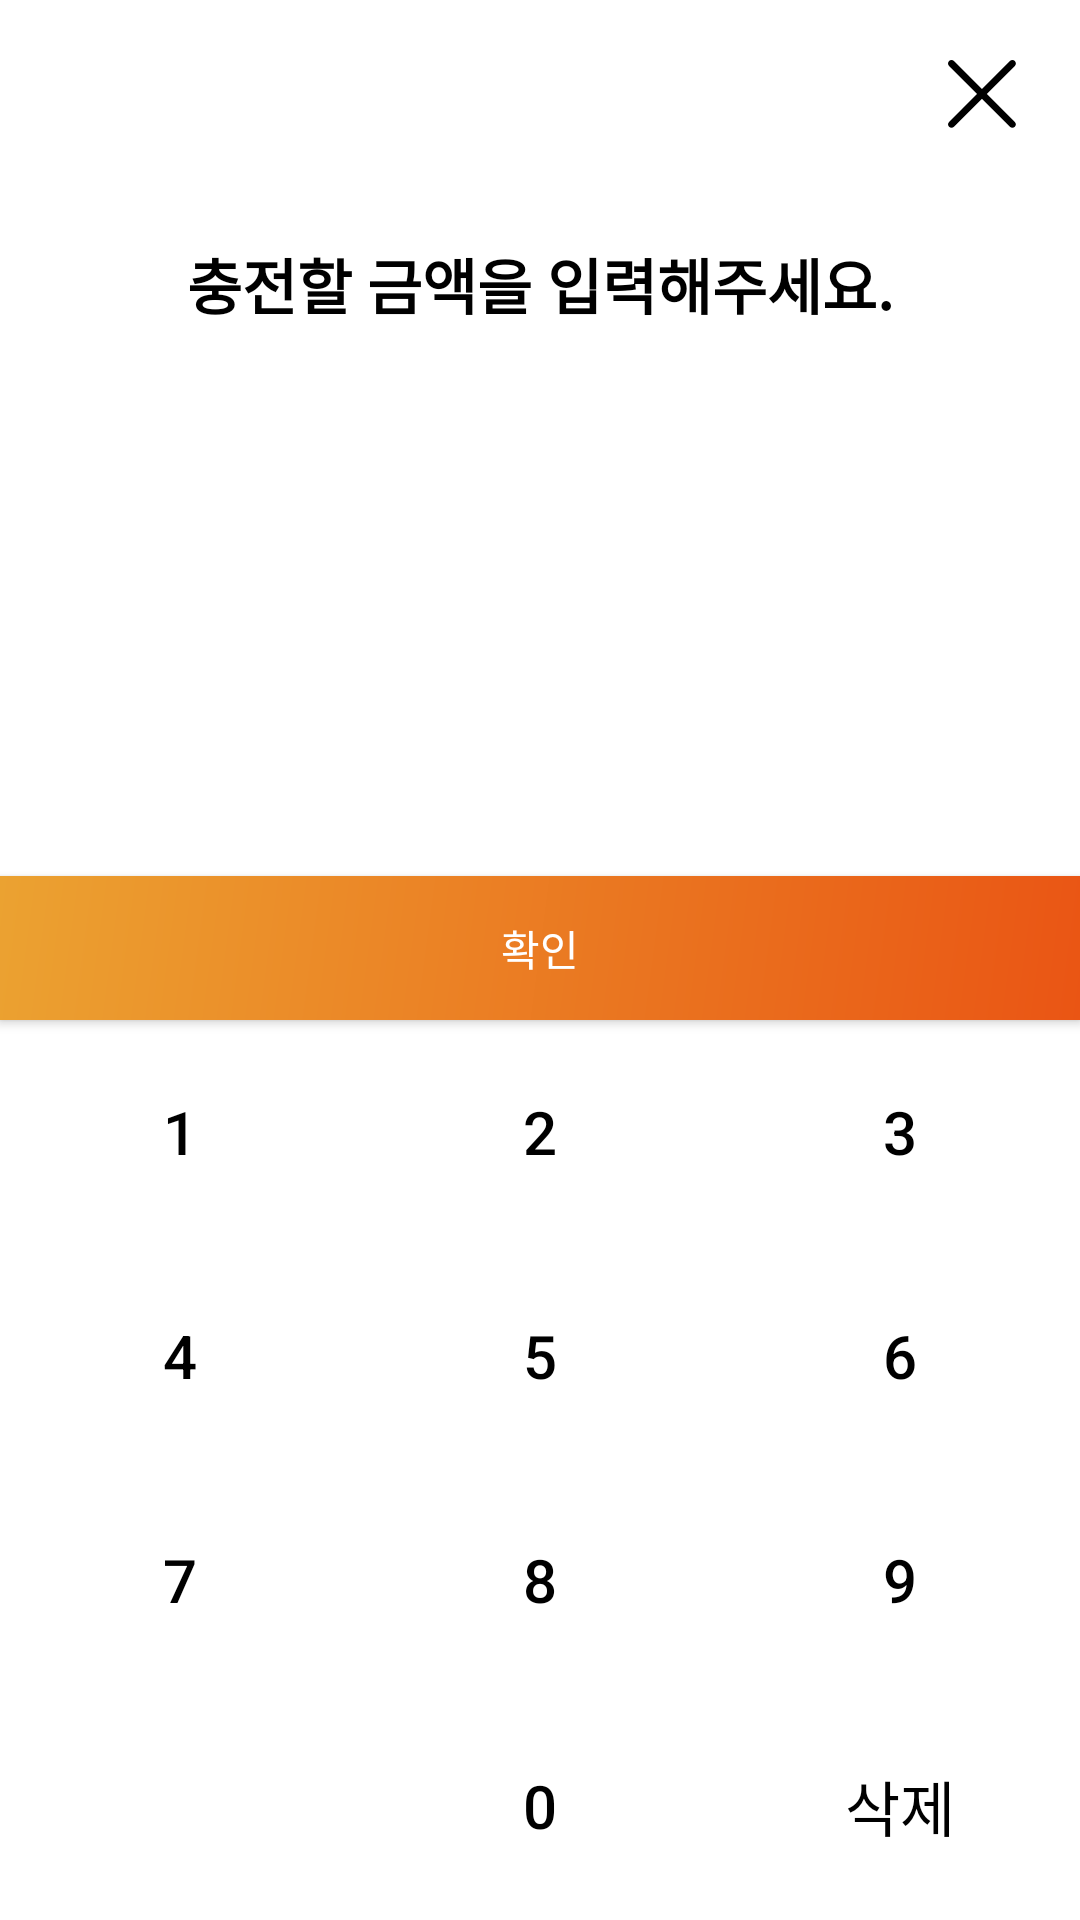

Where to tap for icons on this 1080 x 1920 app screen, as point (x, y):
close: point (982, 94)
